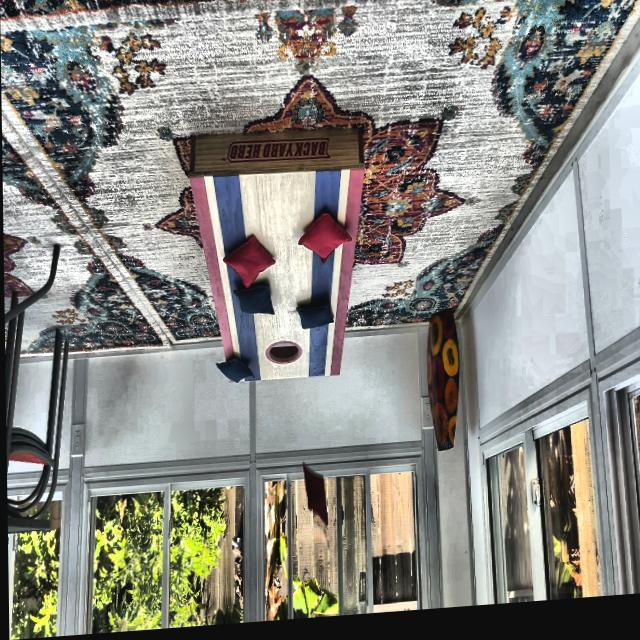blue-bean-bag: (233, 286, 273, 322), (214, 359, 254, 388), (297, 305, 333, 335)
board: (217, 176, 344, 387)
hole: (264, 343, 302, 371)
red-bean-bag: (296, 215, 351, 270), (220, 237, 275, 292), (301, 466, 327, 529)
